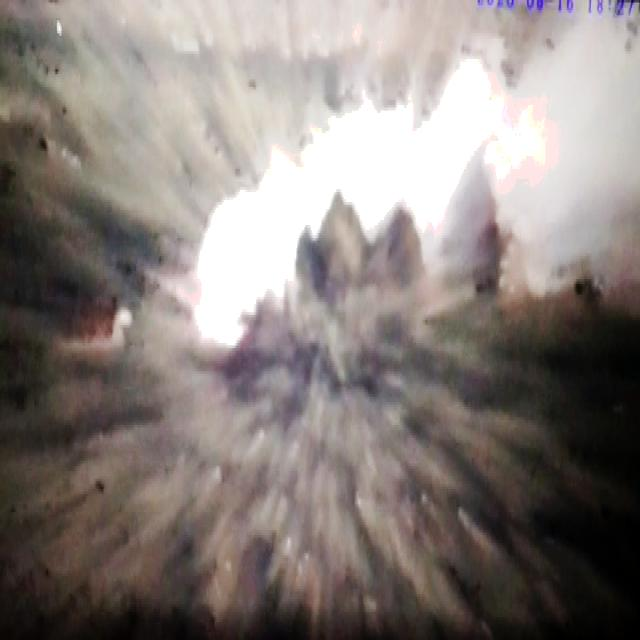asap: (186, 32, 640, 375)
